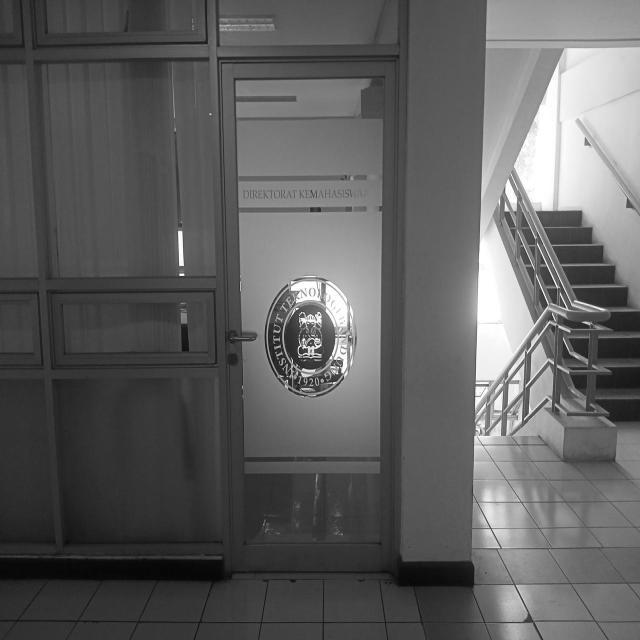door: (210, 44, 406, 576)
